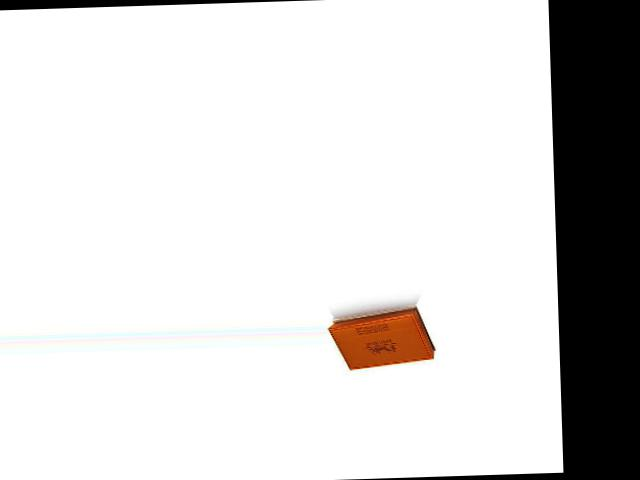chocolate: (328, 298, 438, 373)
